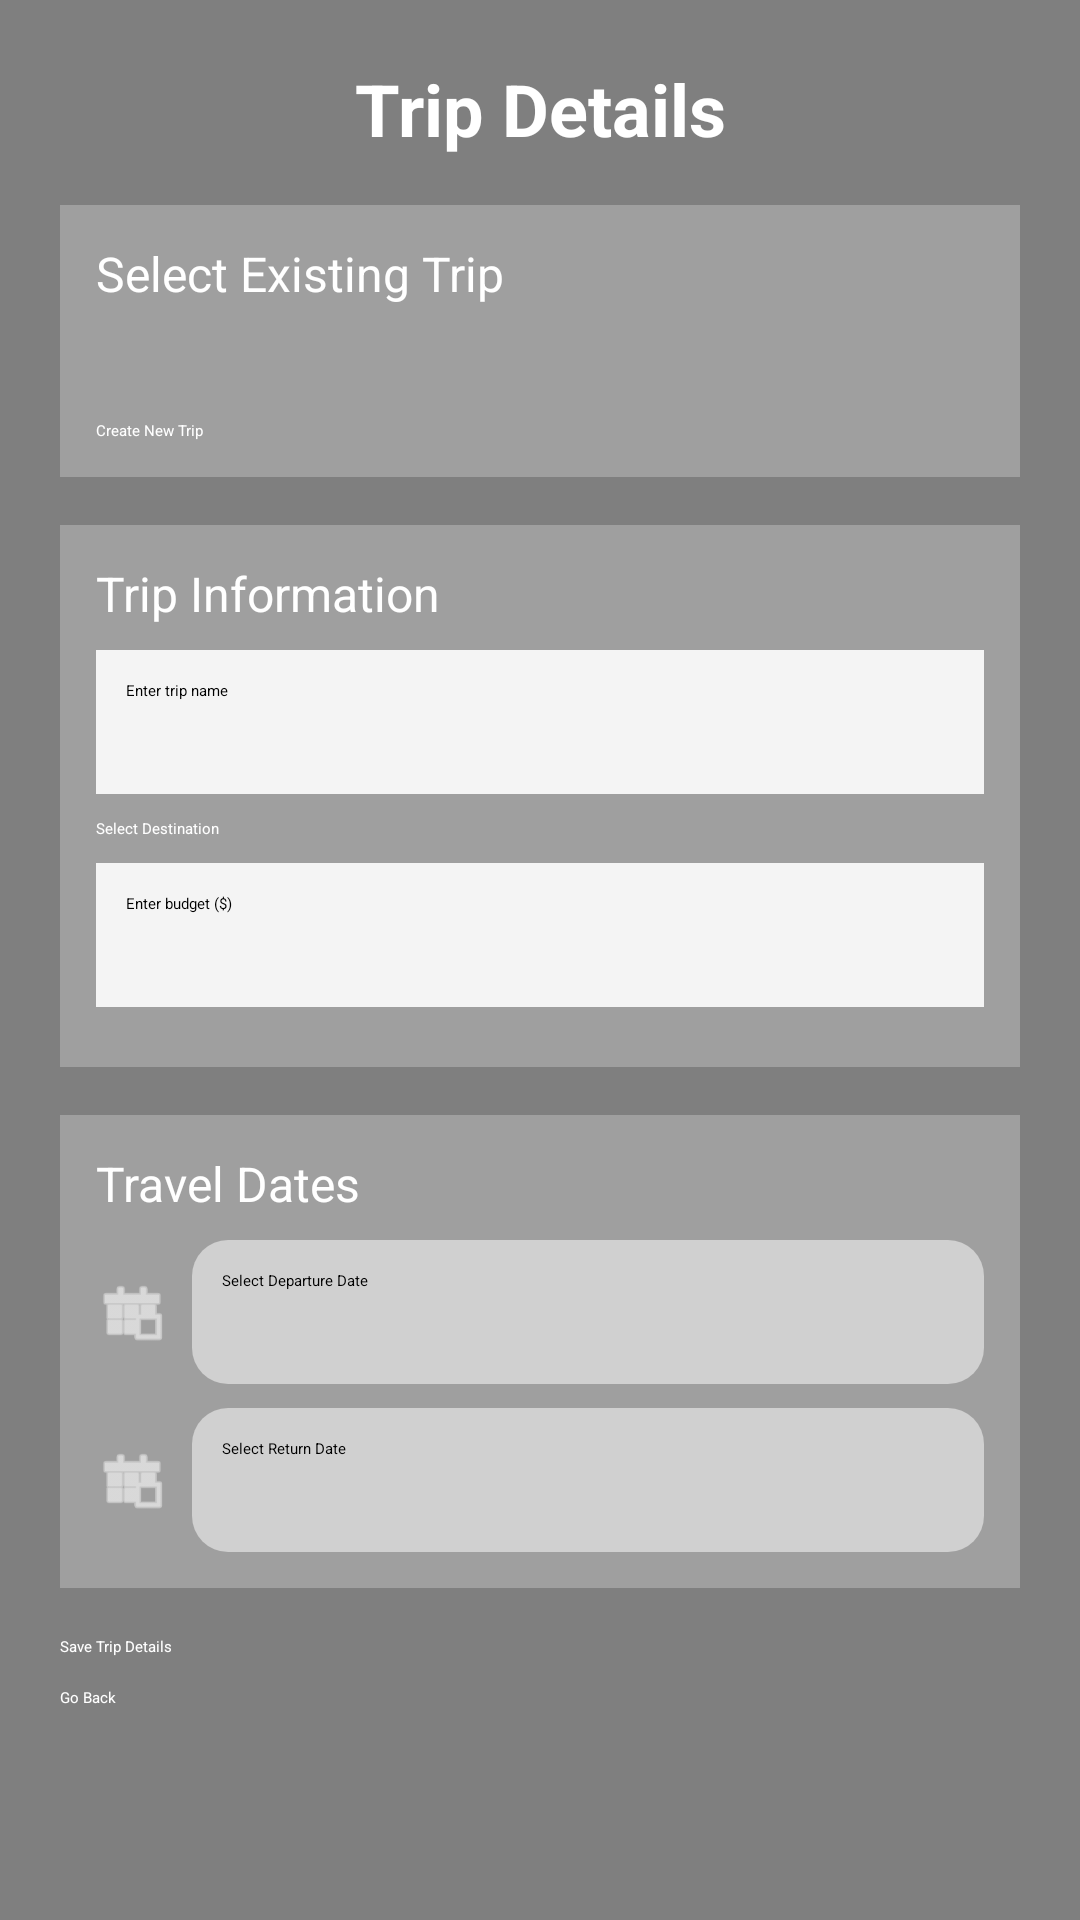

Where icons sit on this 1080w x 1920h app screen, as (x1,y1,x2,y2):
Calendar icon: (104,1286,162,1340), (104,1454,162,1508)
